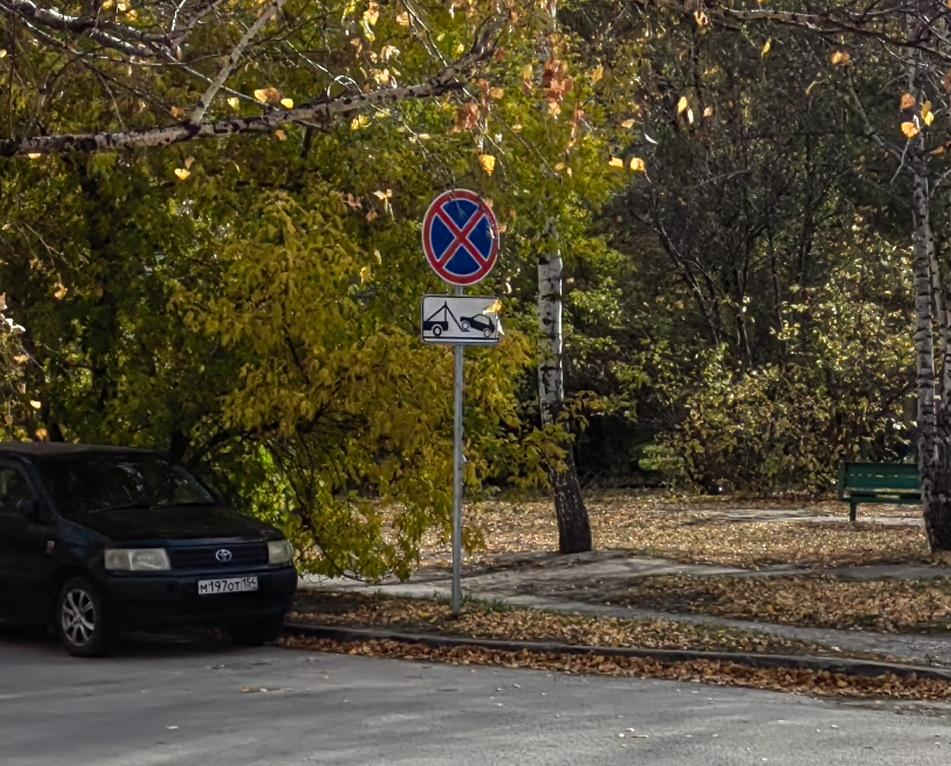obstructed_road_sign: (424, 190, 500, 286), (422, 298, 499, 343)
